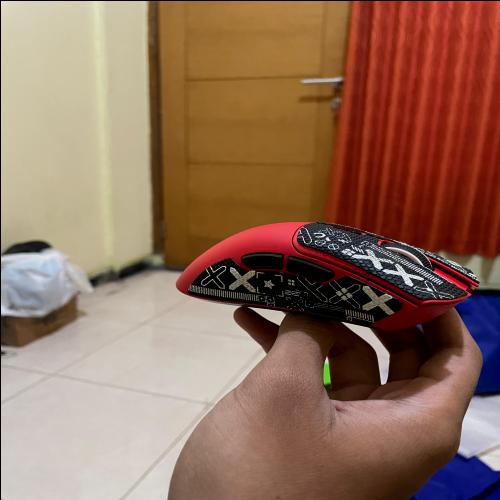mouse: (164, 211, 487, 333)
